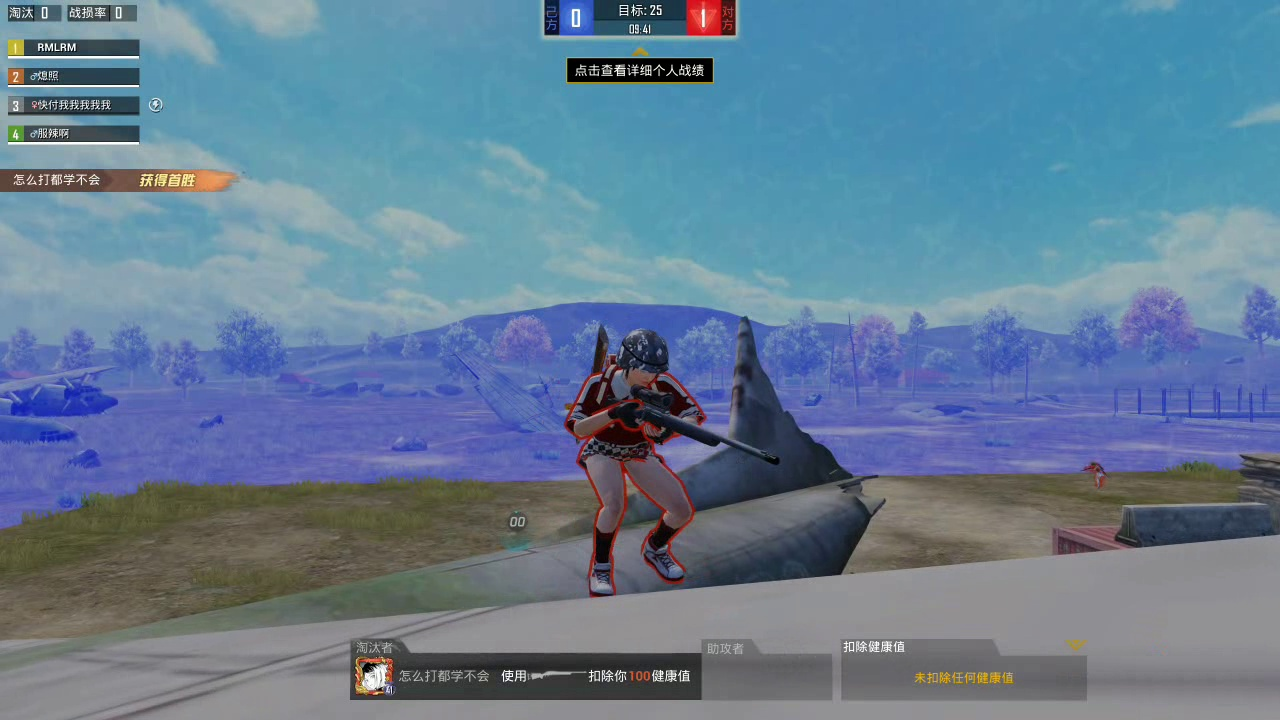enemy: (572, 328, 709, 587), (1083, 459, 1109, 490)
